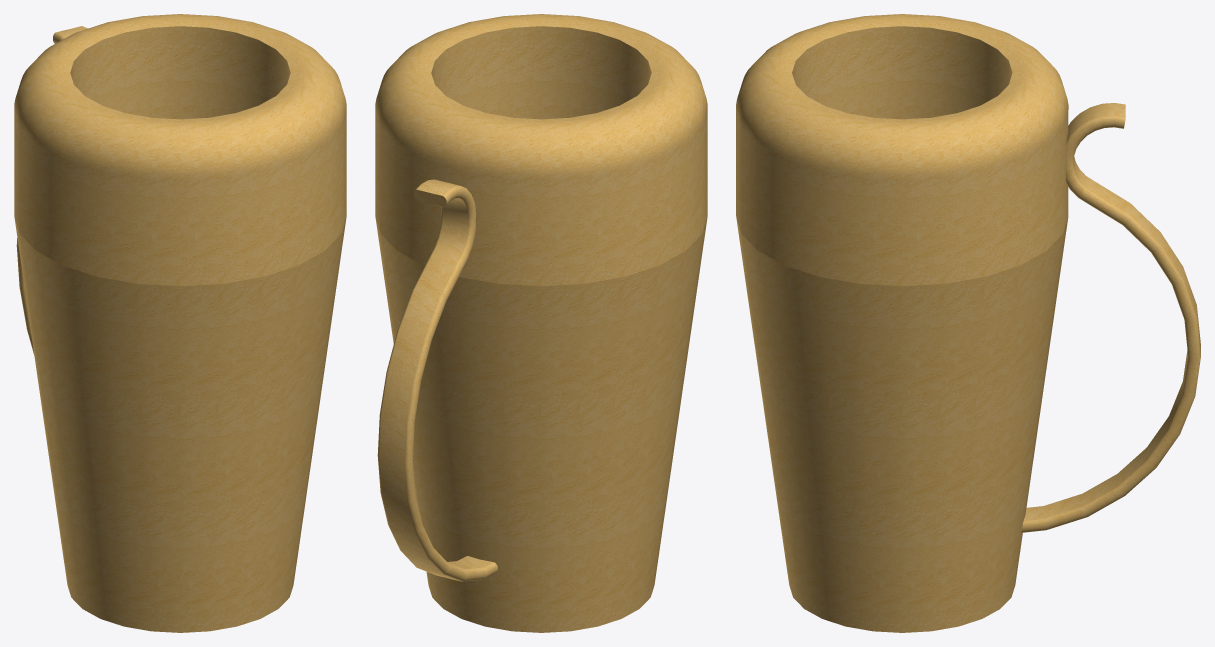
The picture shows the model from 3 angles, left to right: view 1: azimuth 30°, elevation 25°; view 2: azimuth 150°, elevation 25°; view 3: azimuth 270°, elevation 25°; orthographic projection.
Visible parts, largest first — view 1: mesh1_mesh1-geometry, mesh2_mesh2-geometry; view 2: mesh1_mesh1-geometry, mesh2_mesh2-geometry; view 3: mesh1_mesh1-geometry, mesh2_mesh2-geometry.
Boxes of the visible parts, box(x1,y1,x2,y2) form: mesh1_mesh1-geometry: box(14, 14, 346, 632); mesh2_mesh2-geometry: box(16, 26, 87, 354); mesh1_mesh1-geometry: box(375, 14, 707, 632); mesh2_mesh2-geometry: box(377, 179, 497, 581); mesh1_mesh1-geometry: box(736, 14, 1068, 632); mesh2_mesh2-geometry: box(1021, 103, 1200, 532).
Size of the model in its own units: 0.4128 by 0.7046 by 0.5772.
Materials: 2 (1 with a texture image).
